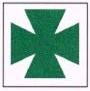Farmacia: (3, 1, 88, 89)
